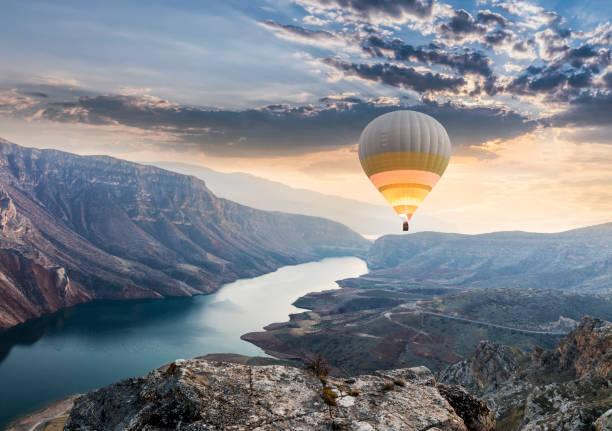Non_Gorille: (126, 31, 578, 402)
